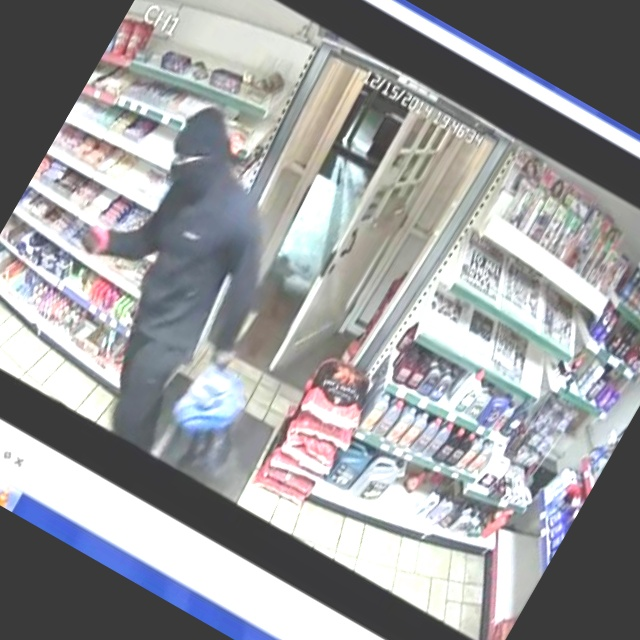gun: (47, 182, 127, 260)
